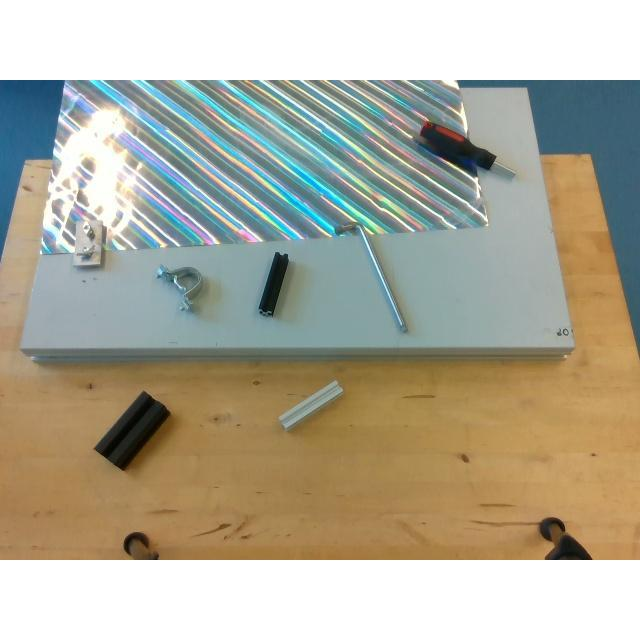AllenKey: (335, 222, 409, 334)
F20_20_B: (258, 252, 288, 316)
F20_20_G: (278, 380, 342, 430)
Housing: (155, 265, 203, 311)
S40_40_B: (94, 392, 170, 468)
